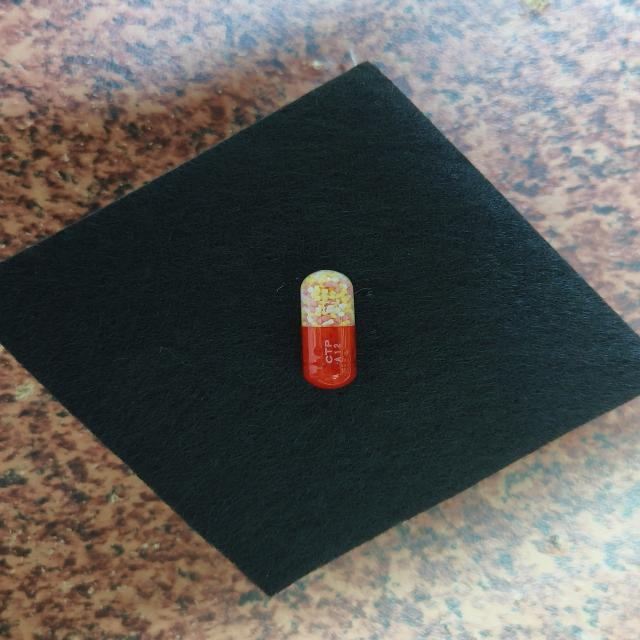Intact Capsule: (301, 270, 357, 389)
